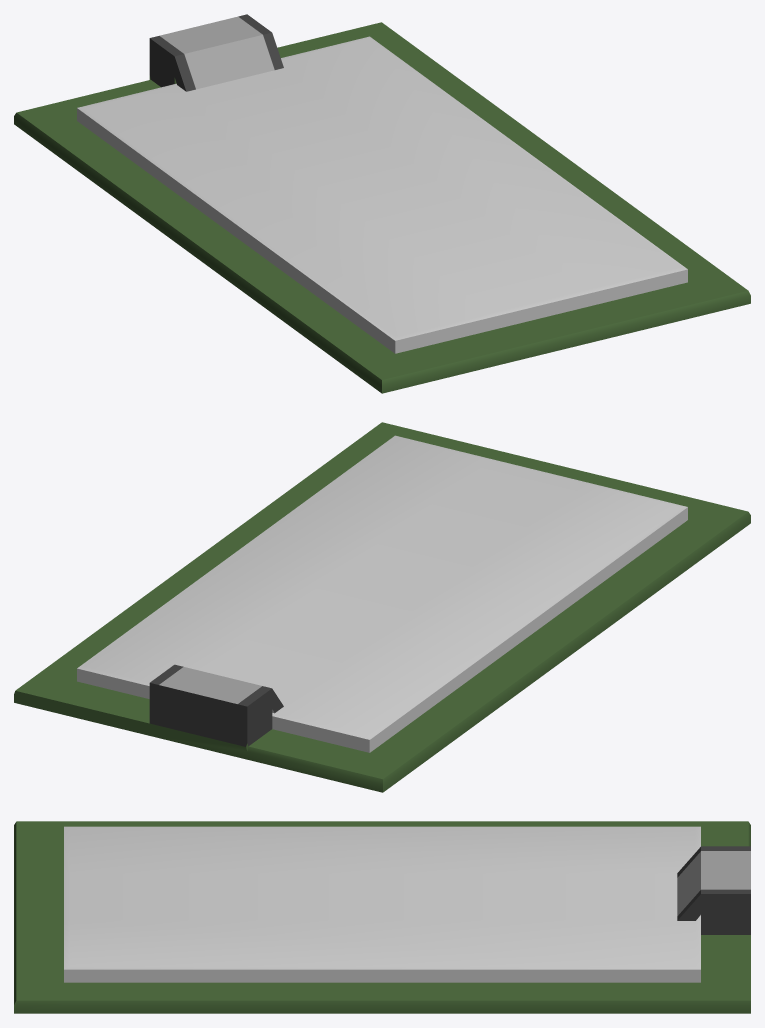
The model's file is DocPaper.fbx.
The picture shows the model from 3 angles, top to bottom: view 1: azimuth 30°, elevation 25°; view 2: azimuth 150°, elevation 25°; view 3: azimuth 270°, elevation 25°; orthographic projection.
Visible parts, largest first — view 1: DocPaper; view 2: DocPaper; view 3: DocPaper.
Part boxes in pixels (bbox=[...]): DocPaper: bbox=[14, 14, 750, 393]; DocPaper: bbox=[14, 422, 750, 792]; DocPaper: bbox=[14, 821, 750, 1013].
Bounding box in the file's own units: 60.06 × 8.26 × 104.
